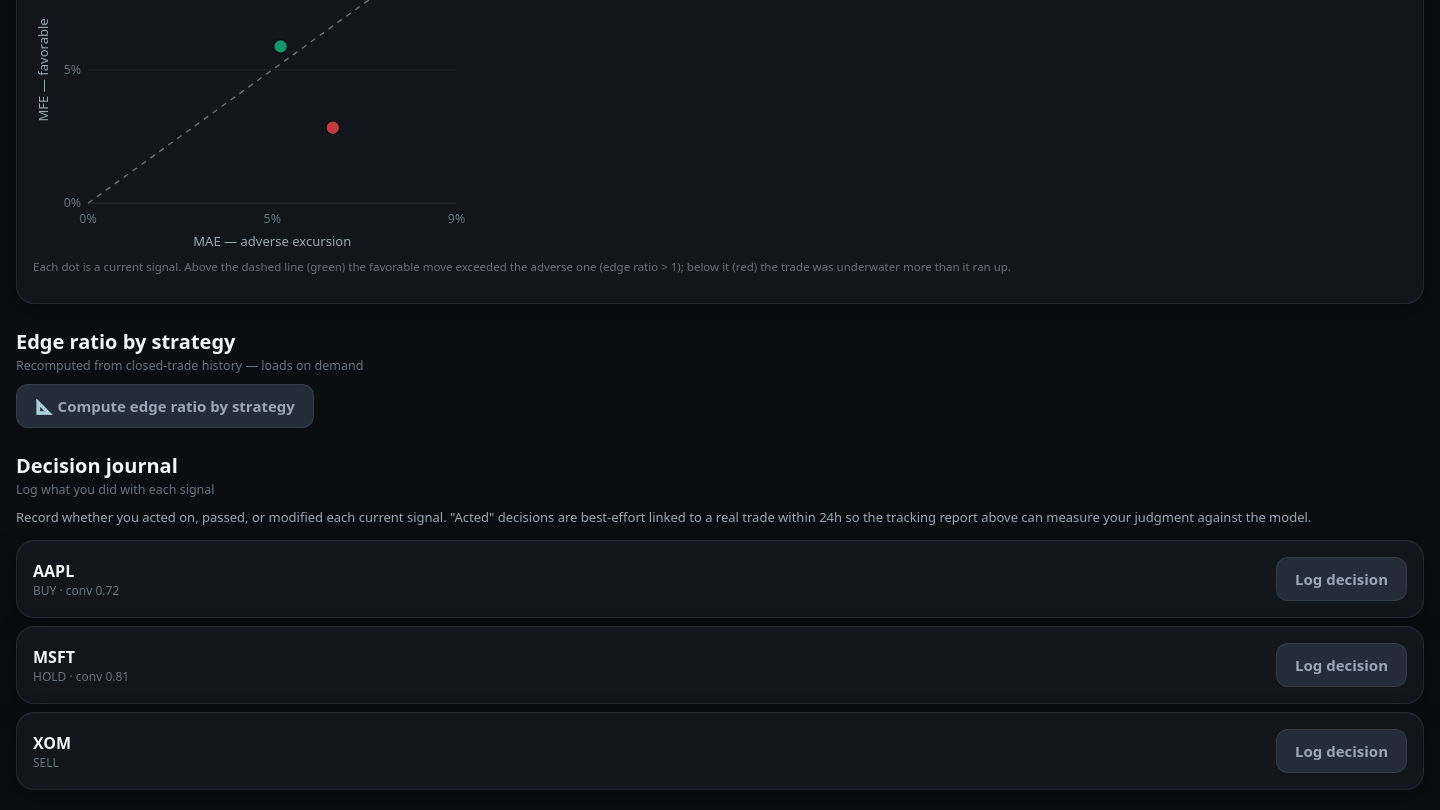
it: Calibration screen (real mock API) › edge-by-strategy honest empty when there are no closed trades
(page scrolled)
expect the heading "Edge ratio by strategy" is shown: met, box [16,328,235,354]
Click the button "📐 Compute edge ratio by strategy".
click(165, 406)  # box [16,384,314,428]
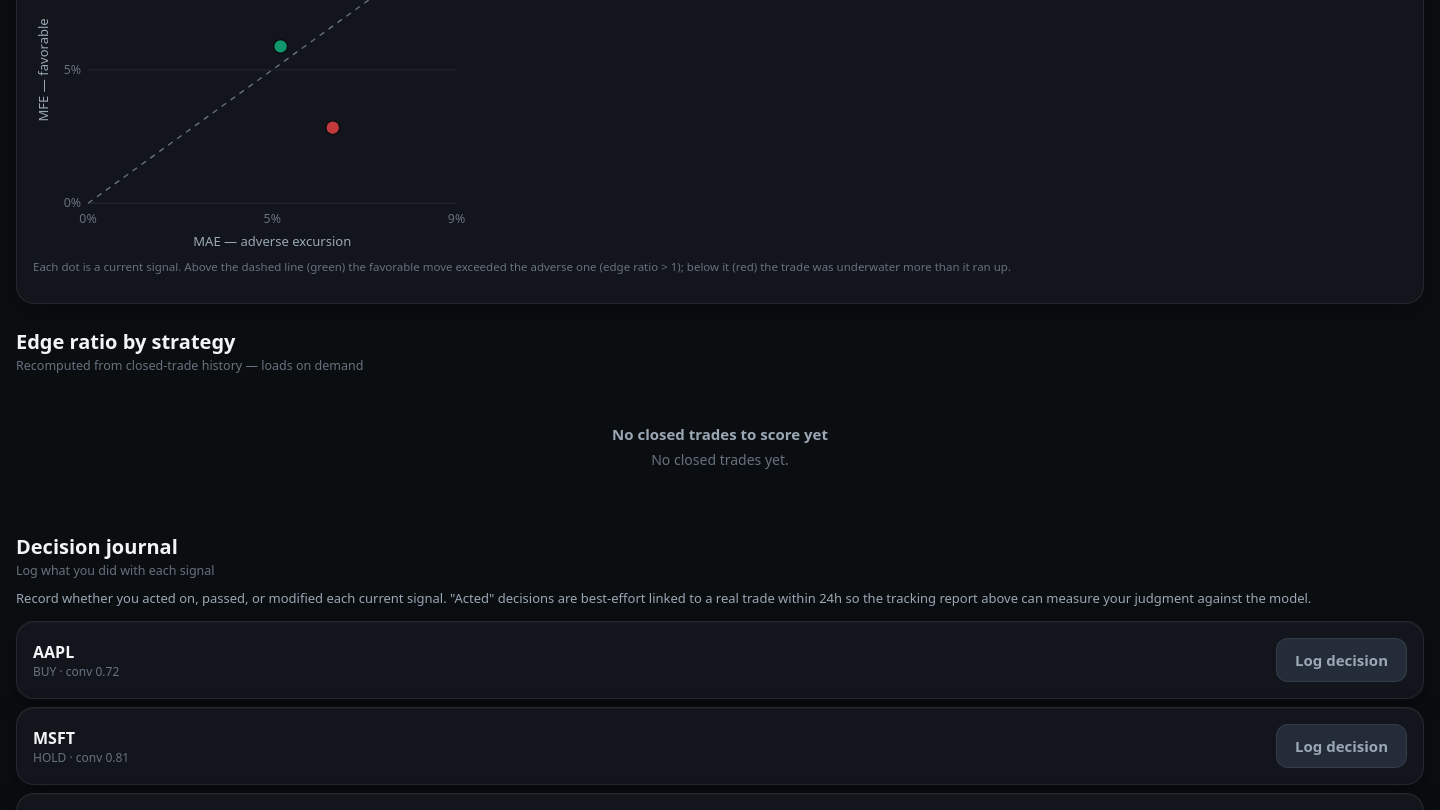
expect the text "No closed trades to score yet" is shown: met, box [612,424,828,444]
